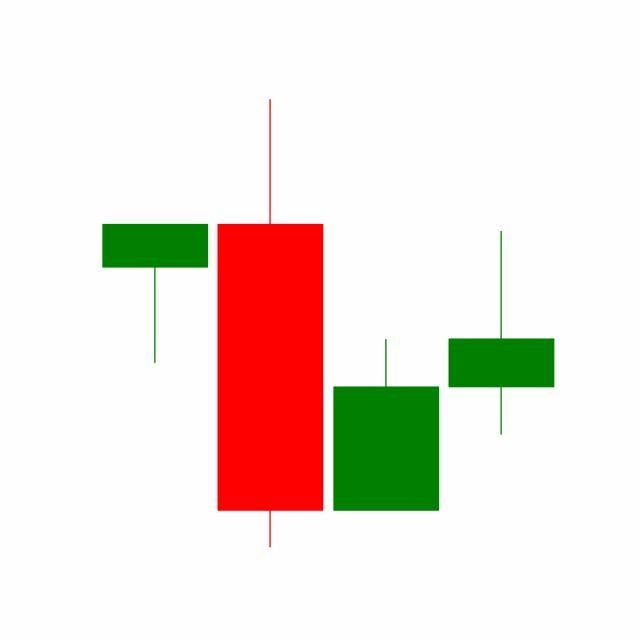Spinning Top: (444, 230, 560, 438)
